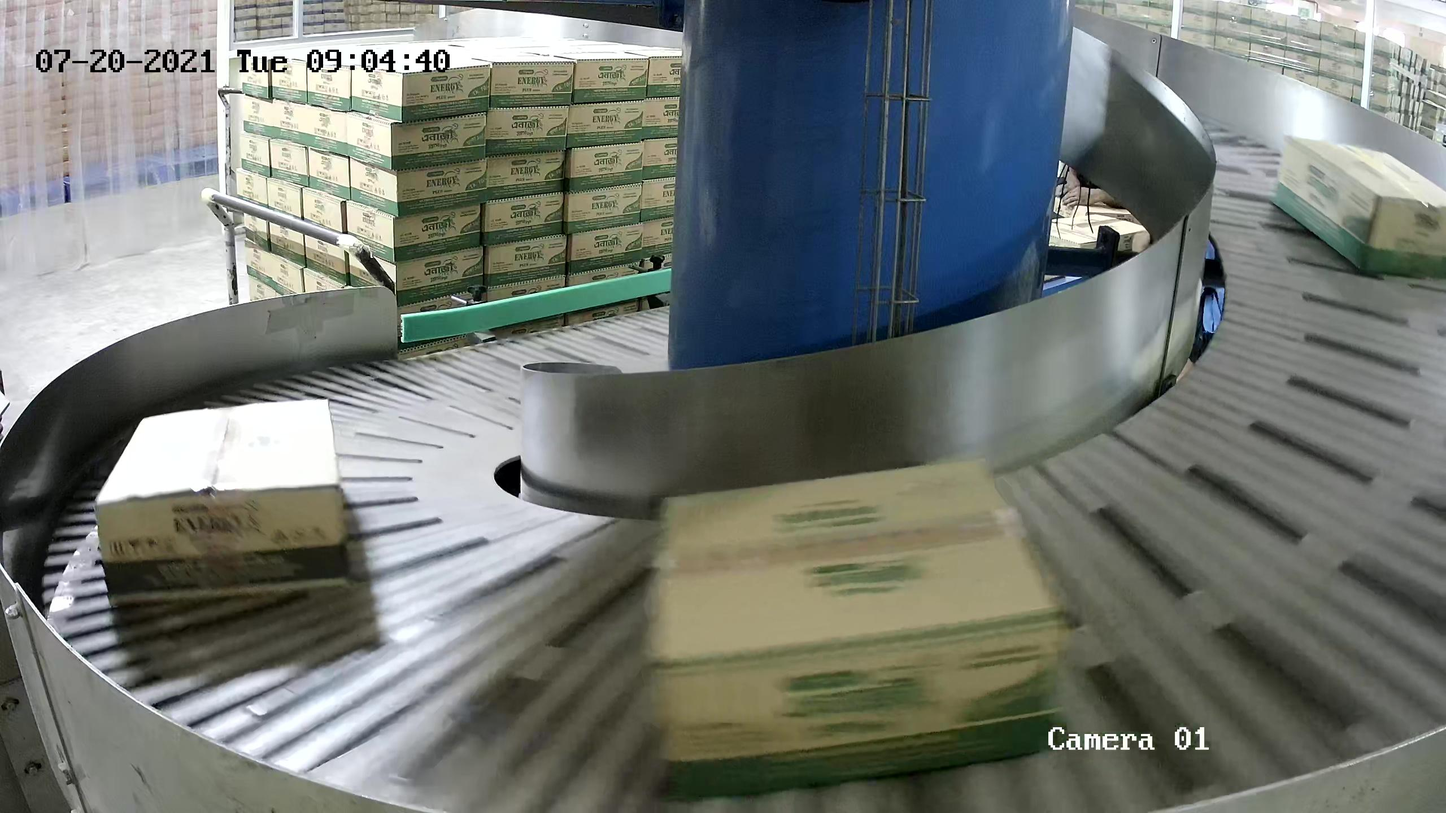Box: (645, 455, 1063, 799), (93, 397, 350, 609), (1271, 134, 1446, 279)
